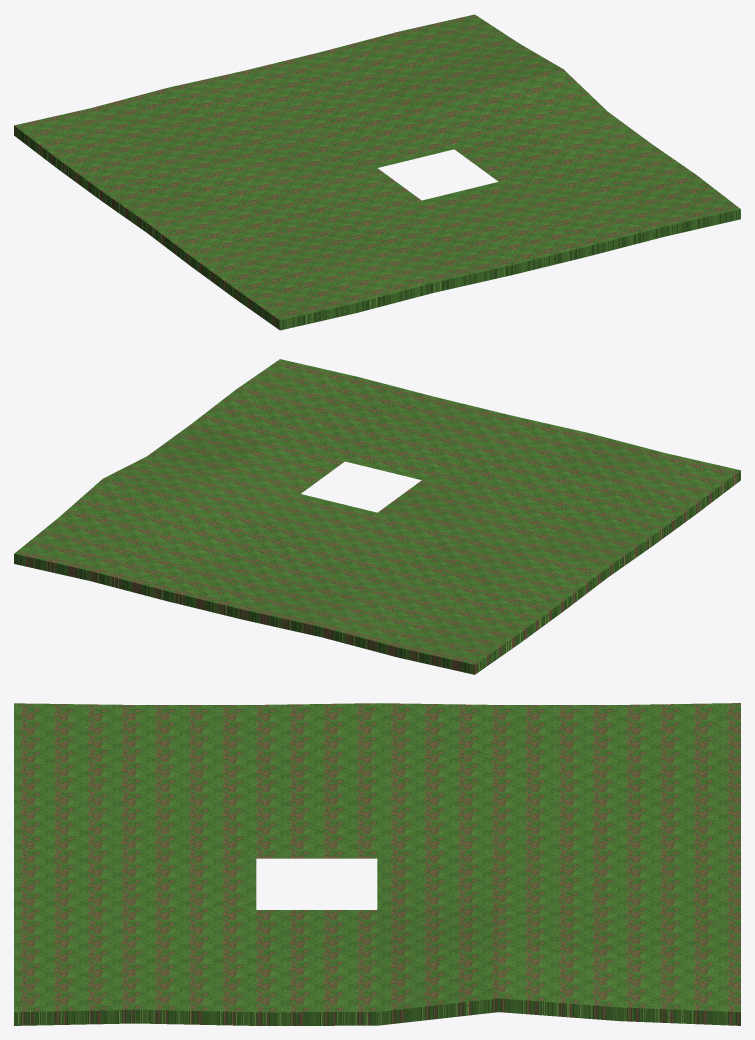
File: rv_terrain_03_lod3.gltf
3 renders of one model, top to bottom at view 1: azimuth 30°, elevation 25°; view 2: azimuth 150°, elevation 25°; view 3: azimuth 270°, elevation 25°, orthographic. The views are drawn at different scales.
Visible parts, largest first — view 1: RV_Terrain_03_lod3; view 2: RV_Terrain_03_lod3; view 3: RV_Terrain_03_lod3.
Boxes of the visible parts, box(x1,y1,x2,y2) form: RV_Terrain_03_lod3: box(14, 14, 740, 330); RV_Terrain_03_lod3: box(14, 359, 740, 674); RV_Terrain_03_lod3: box(14, 703, 740, 1025).
Size of the model in its own units: 72 by 3.01 by 72.
Materials: 2 (1 with a texture image).
